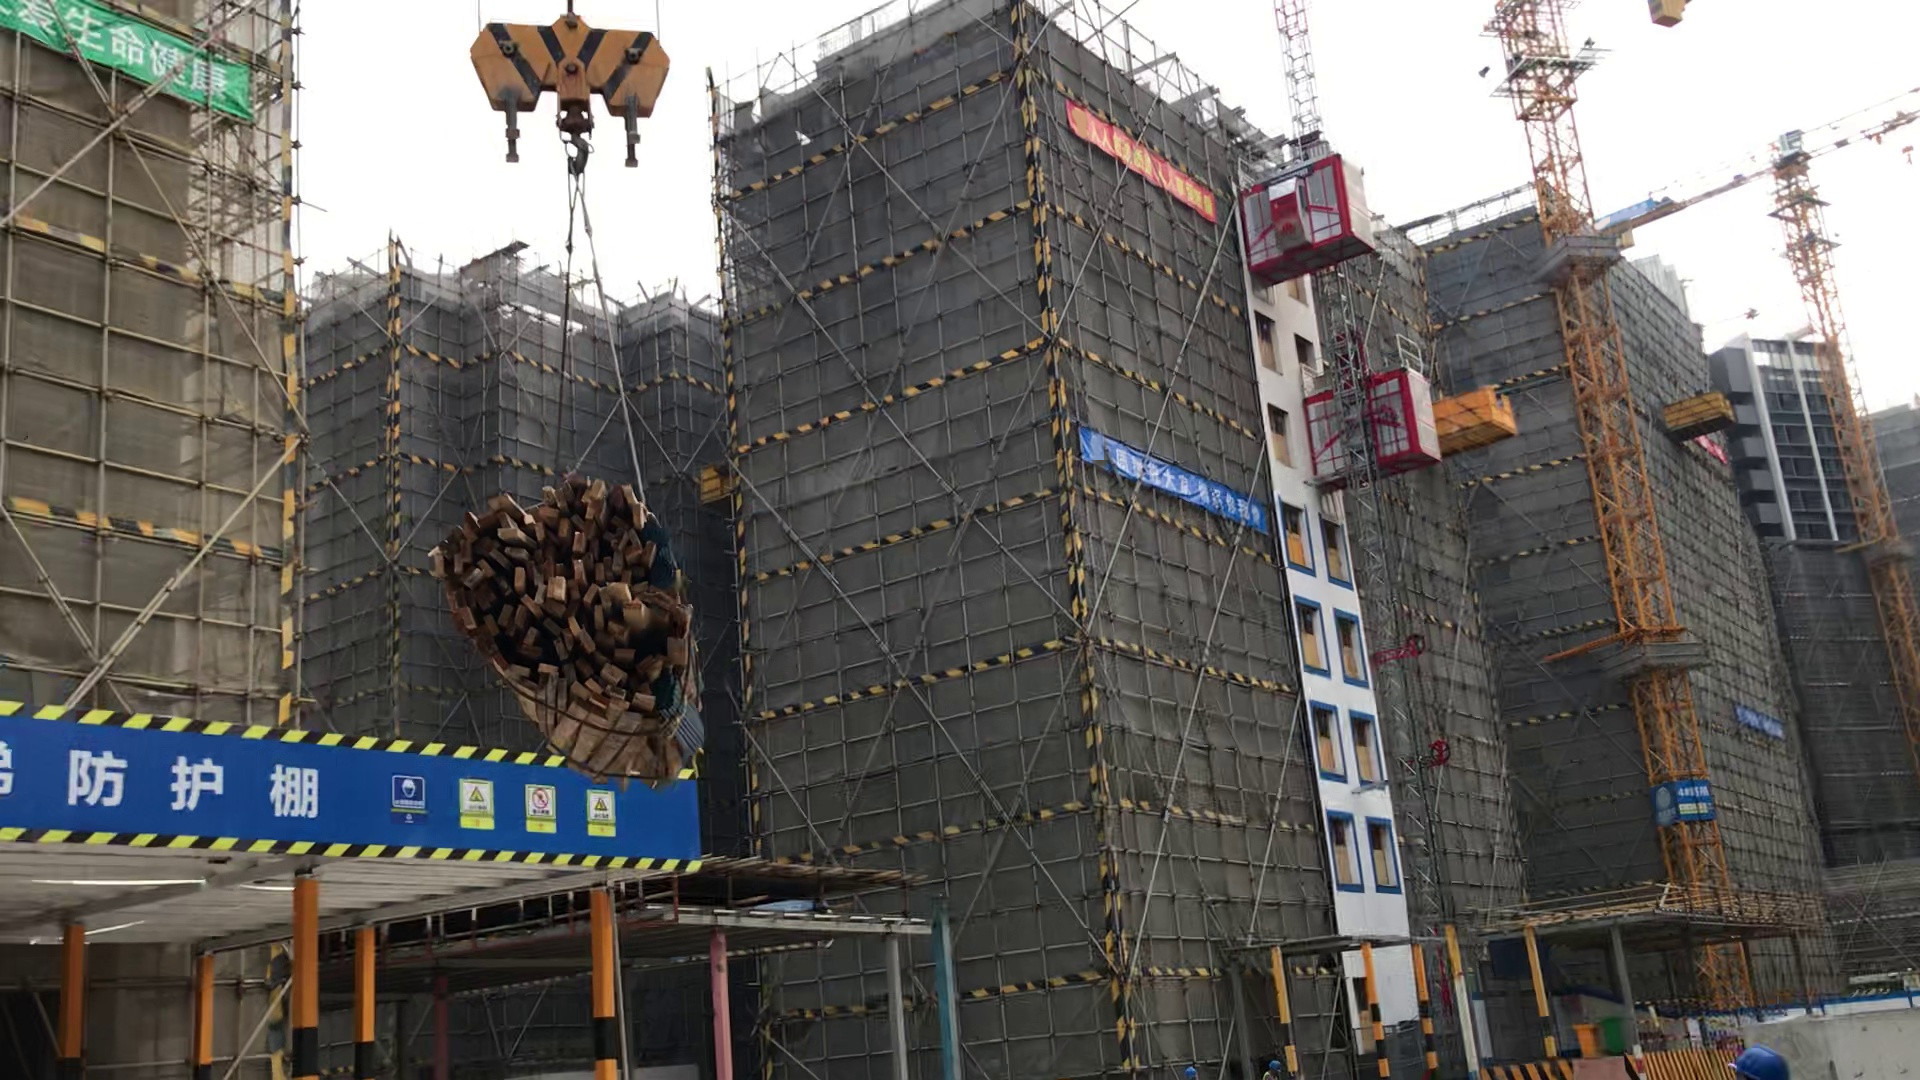fence: (1634, 992, 1754, 1058)
helmet: (1724, 1034, 1803, 1080)
hook: (433, 1, 727, 211)
slogan: (1, 678, 758, 935), (1, 1, 276, 152), (1064, 419, 1295, 545), (1050, 96, 1237, 225), (1640, 769, 1724, 832), (1716, 691, 1792, 754), (1692, 429, 1735, 477)
wood: (421, 469, 773, 804)
